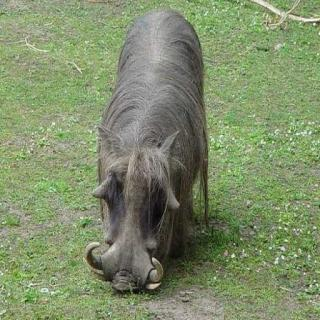Pig: (87, 2, 234, 302)
